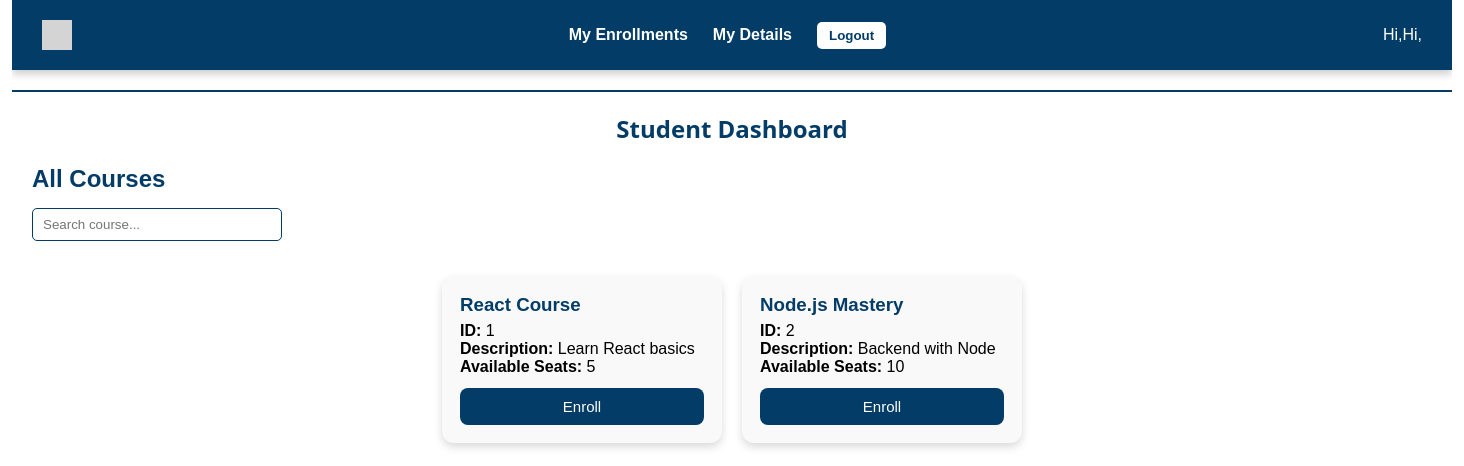
Test case: StudentHome Component › search functionality filters courses
Expected: the heading "React Course" is shown, [460, 294, 581, 315]
Step 1. Type "react" into the field with placeholder "Search course..." → (157, 224), box [32, 208, 282, 241]
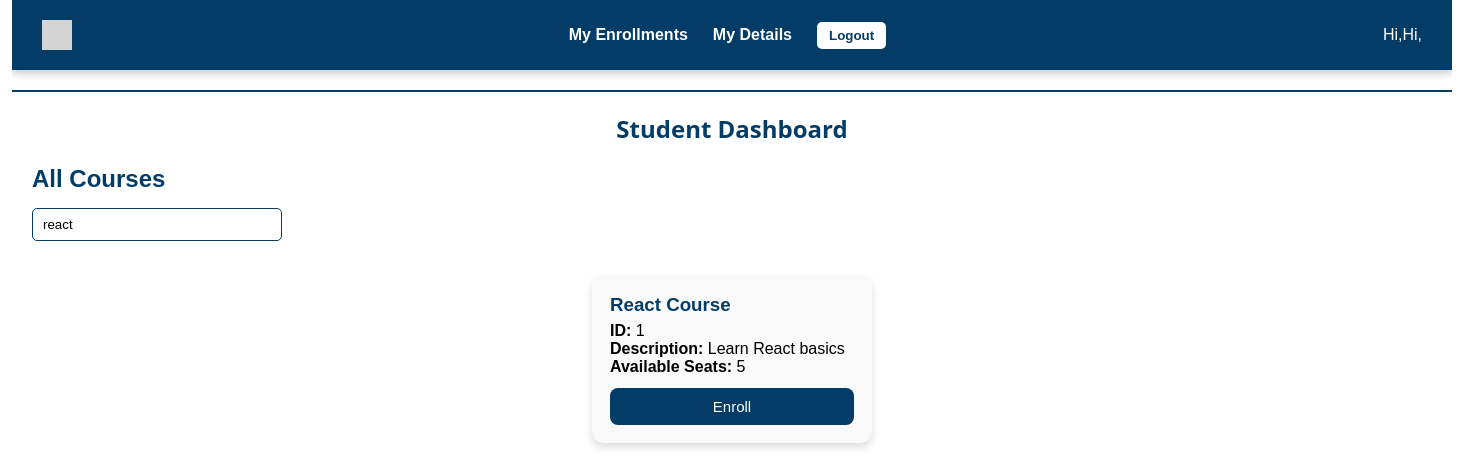
Expected: the heading "React Course" is shown, [610, 294, 731, 315]
Expected: the heading "Node.js Mastery" is gone
